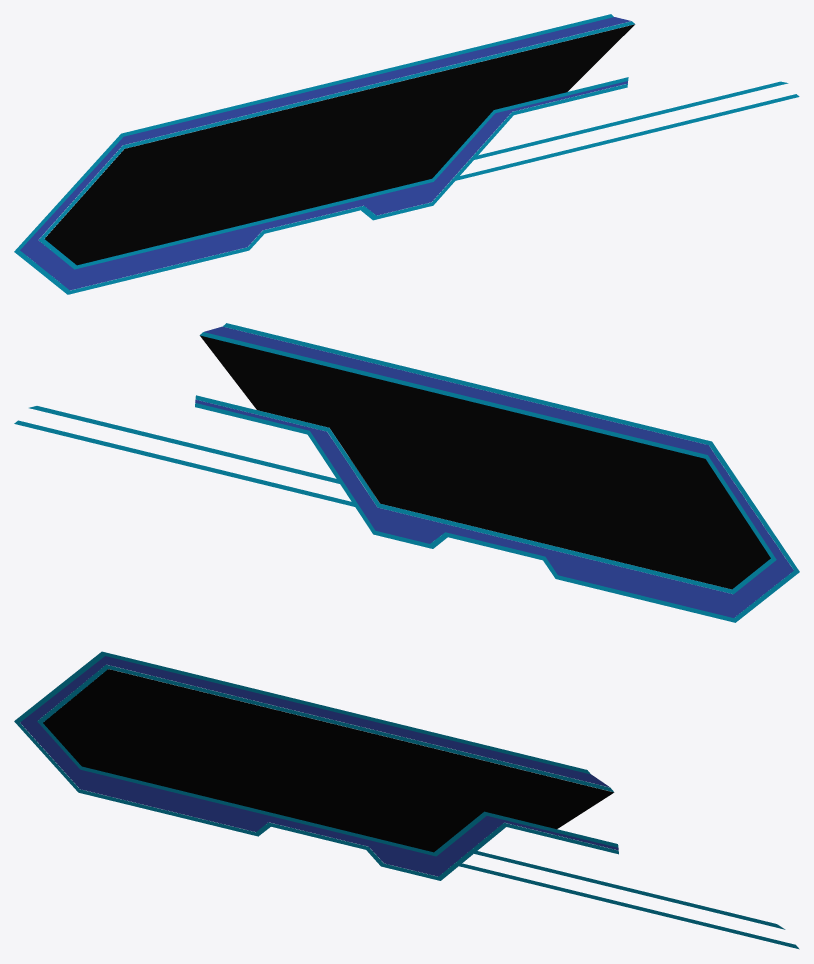
The model's file is Select Left.fbx.
3 renders of one model, top to bottom at view 1: azimuth 30°, elevation 25°; view 2: azimuth 150°, elevation 25°; view 3: azimuth 330°, elevation 25°, orthographic.
Visible parts, largest first — view 1: object_4; view 2: object_4; view 3: object_4.
Part boxes in pixels (x1,y1,x2,y2): object_4: (14, 14, 799, 294); object_4: (14, 323, 799, 622); object_4: (14, 651, 799, 949).
Bounding box in the file's own units: 3979 × 784 × 130.
